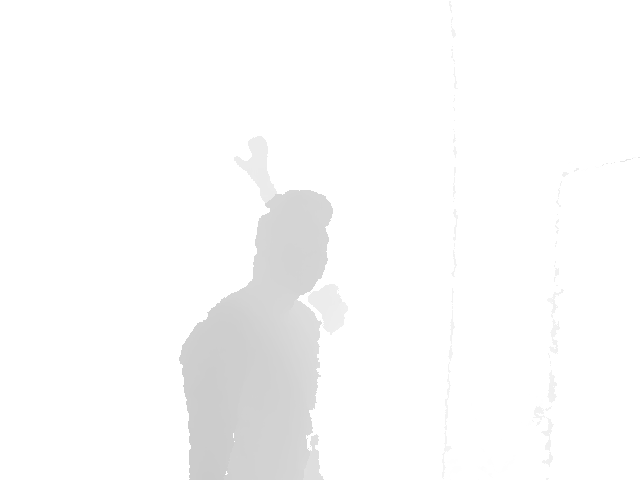hand: (234, 136, 268, 176)
head: (252, 189, 331, 302)
person: (177, 190, 333, 480), (233, 136, 347, 334)
